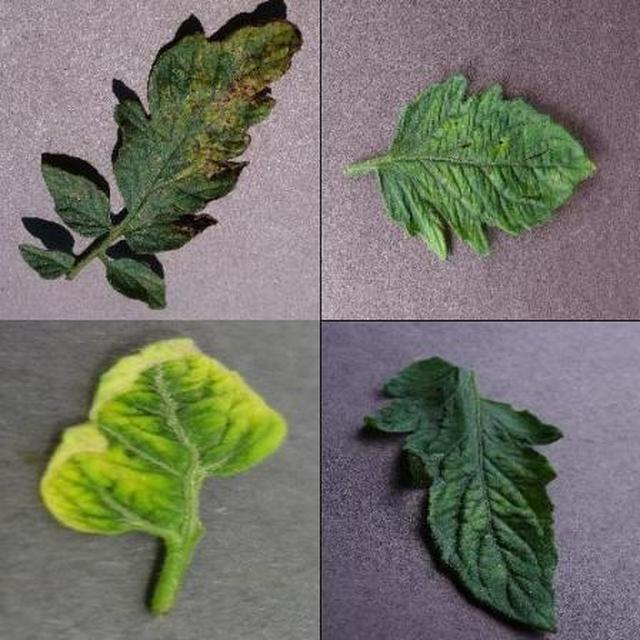Septoria Leaf: (232, 193, 640, 640)
